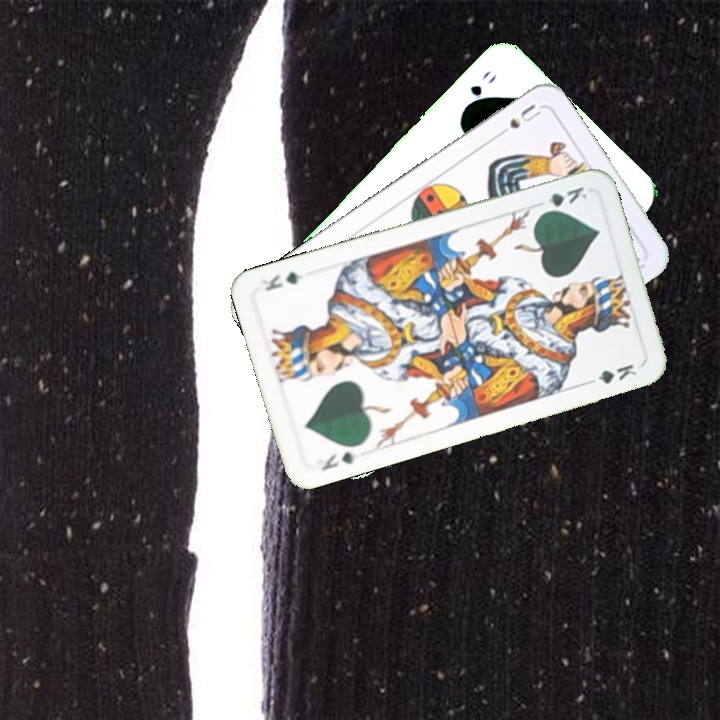GK: (532, 182, 590, 217), (317, 447, 362, 474)
GO: (460, 67, 500, 112)
SU: (491, 100, 544, 141)
